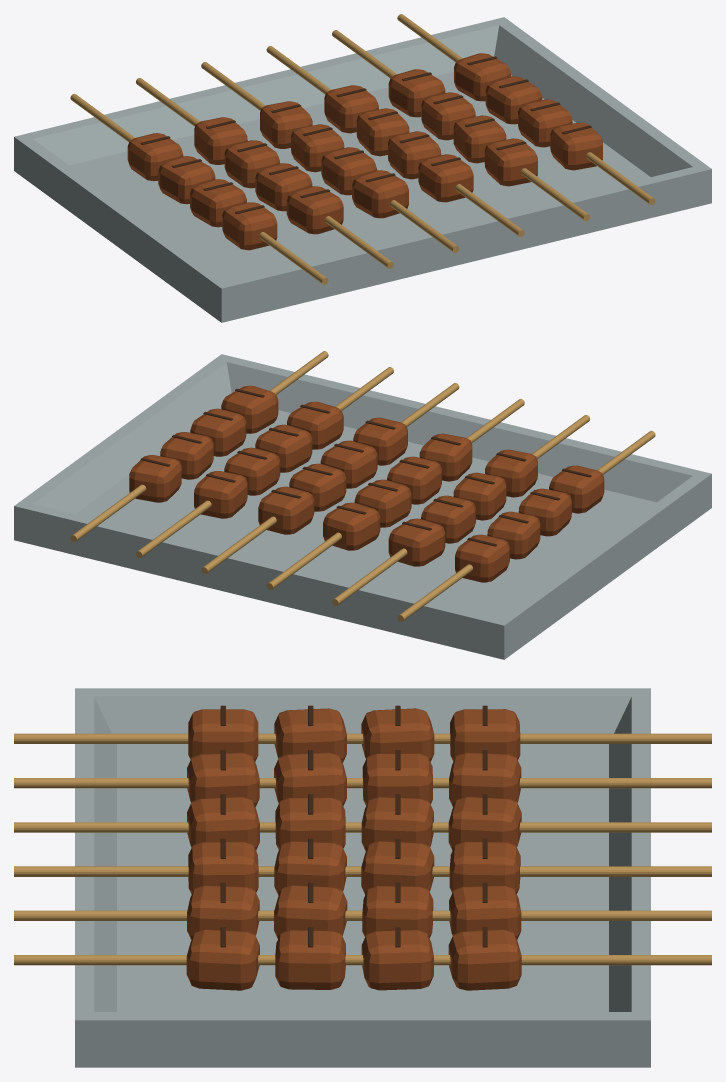
Rendered from satay-skewer-display.glb.
The picture shows the model from 3 angles, top to bottom: view 1: azimuth 30°, elevation 25°; view 2: azimuth 150°, elevation 25°; view 3: azimuth 270°, elevation 25°; orthographic projection. The views are drawn at different scales.
Visible parts, largest first — view 1: CONTEXT_Tray_Reuse439, GRILLED_1_0, GRILLED_2_0, GRILLED_3_0, GRILLED_0_0, GRILLED_4_0, GRILLED_5_0, GRILLED_4_3, GRILLED_0_1, GRILLED_5_2, GRILLED_1_1, GRILLED_5_3 (+19 smaller); view 2: CONTEXT_Tray_Reuse439, GRILLED_2_3, GRILLED_1_3, GRILLED_3_3, GRILLED_0_3, GRILLED_4_3, GRILLED_5_3, GRILLED_4_1, GRILLED_5_0, GRILLED_3_2, GRILLED_4_2, GRILLED_5_1 (+19 smaller); view 3: CONTEXT_Tray_Reuse439, BAMBOO_3, BAMBOO_0, BAMBOO_2, BAMBOO_5, BAMBOO_4, BAMBOO_1, GRILLED_5_3, GRILLED_5_0, GRILLED_5_2, GRILLED_5_1, GRILLED_0_2 (+19 smaller).
Part boxes in pixels (bbox=[...]): CONTEXT_Tray_Reuse439: bbox=[14, 17, 711, 322]; GRILLED_1_0: bbox=[286, 186, 343, 234]; GRILLED_2_0: bbox=[352, 170, 408, 218]; GRILLED_3_0: bbox=[418, 154, 473, 202]; GRILLED_0_0: bbox=[222, 202, 277, 250]; GRILLED_4_0: bbox=[484, 138, 537, 186]; GRILLED_5_0: bbox=[550, 122, 602, 170]; GRILLED_4_3: bbox=[388, 69, 445, 117]; GRILLED_0_1: bbox=[190, 179, 246, 227]; GRILLED_5_2: bbox=[485, 76, 542, 124]; GRILLED_1_1: bbox=[255, 163, 312, 211]; GRILLED_5_3: bbox=[454, 53, 510, 101]; CONTEXT_Tray_Reuse439: bbox=[14, 354, 711, 659]; GRILLED_2_3: bbox=[323, 502, 380, 550]; GRILLED_1_3: bbox=[388, 518, 445, 566]; GRILLED_3_3: bbox=[258, 486, 314, 534]; GRILLED_0_3: bbox=[455, 534, 509, 582]; GRILLED_4_3: bbox=[194, 471, 247, 518]; GRILLED_5_3: bbox=[129, 455, 181, 502]; GRILLED_4_1: bbox=[255, 424, 312, 472]; GRILLED_5_0: bbox=[221, 385, 278, 433]; GRILLED_3_2: bbox=[289, 463, 346, 511]; GRILLED_4_2: bbox=[224, 447, 280, 495]; GRILLED_5_1: bbox=[190, 408, 246, 456]; CONTEXT_Tray_Reuse439: bbox=[75, 688, 650, 1067]; BAMBOO_3: bbox=[14, 866, 711, 876]; BAMBOO_0: bbox=[14, 733, 711, 743]; BAMBOO_2: bbox=[14, 822, 711, 832]; BAMBOO_5: bbox=[14, 955, 711, 965]; BAMBOO_4: bbox=[14, 910, 711, 920]; BAMBOO_1: bbox=[14, 778, 711, 788]; GRILLED_5_3: bbox=[448, 929, 521, 990]; GRILLED_5_0: bbox=[186, 929, 259, 990]; GRILLED_5_2: bbox=[361, 930, 433, 990]; GRILLED_5_1: bbox=[275, 930, 345, 989]; GRILLED_0_2: bbox=[361, 708, 434, 761].
Size of the model in its own units: 0.45 by 0.048 by 0.4.
